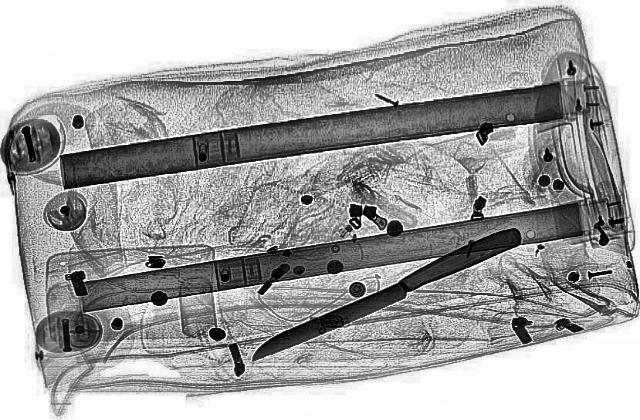Knife: (233, 224, 533, 364)
